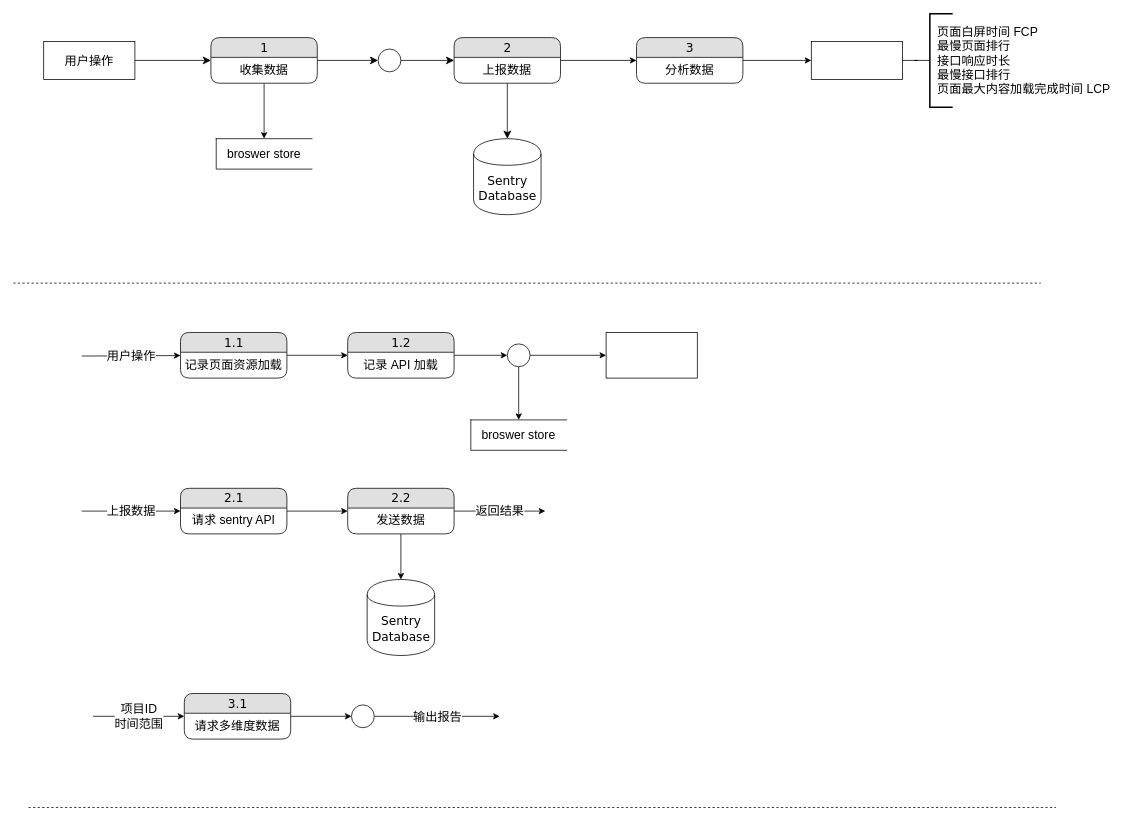
The diagram is 1124 pixels wide and 822 high, and some of its shapes have lost their labels. Here are the shapes that lost their labels. From the top down, the centre of each, then its label:
(856,60): 输出性能报告
(651,355): 经过筛选的数据
